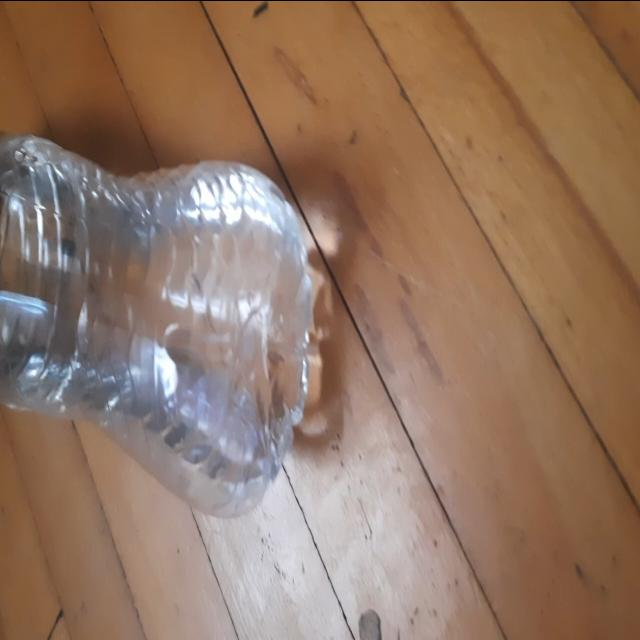Plastic: (0, 130, 326, 520)
